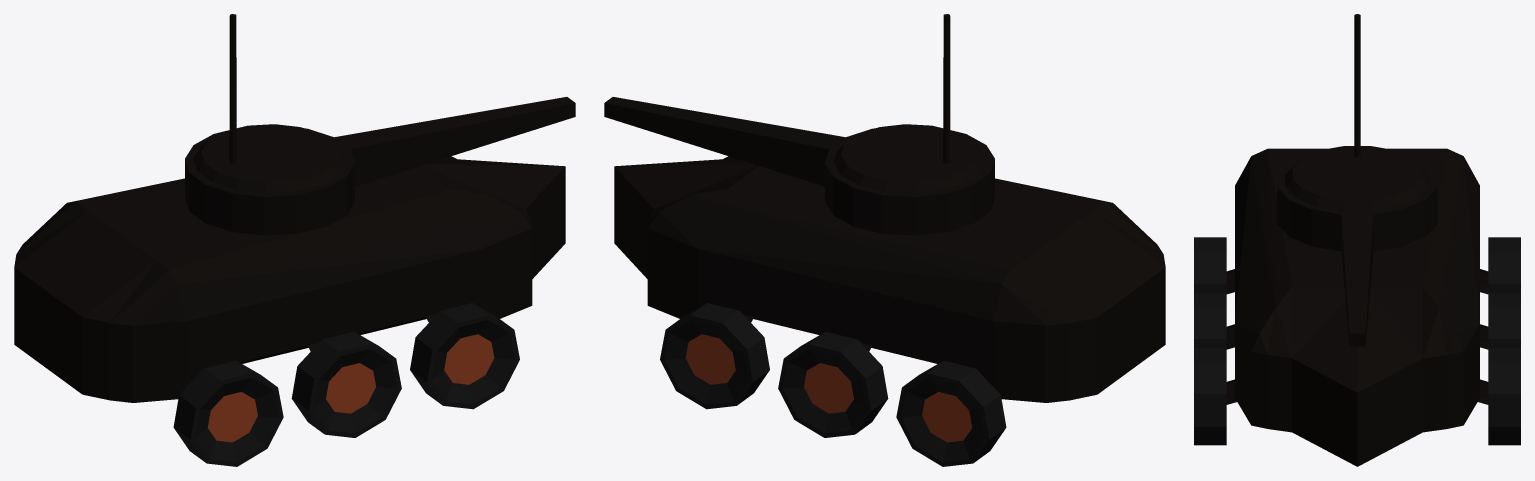
File: alternate_tank.obj
3 renders of one model, left to right at view 1: azimuth 30°, elevation 25°; view 2: azimuth 150°, elevation 25°; view 3: azimuth 270°, elevation 25°, orthographic. The views are drawn at different scales.
Parts seen in each view (by area): view 1: body_Cube, turret_Circle, wheel.003_Cylinder.001, wheel.004_Cylinder.001, wheel.005_Cylinder.001, gun_Circle.001; view 2: body_Cube, turret_Circle, wheel_Cylinder.001, wheel.002_Cylinder.001, wheel.001_Cylinder.001, gun_Circle.001; view 3: body_Cube, turret_Circle, gun_Circle.001, wheel.001_Cylinder.001, wheel.005_Cylinder.001, wheel_Cylinder.001, wheel.002_Cylinder.001, wheel.003_Cylinder.001, wheel.004_Cylinder.001.
Boxes of the visible parts, bbox=[...] form: body_Cube: bbox=[14, 156, 565, 402]; turret_Circle: bbox=[185, 14, 354, 235]; wheel.003_Cylinder.001: bbox=[291, 331, 401, 437]; wheel.004_Cylinder.001: bbox=[173, 360, 283, 466]; wheel.005_Cylinder.001: bbox=[410, 303, 519, 409]; gun_Circle.001: bbox=[334, 97, 575, 186]; body_Cube: bbox=[614, 156, 1165, 402]; turret_Circle: bbox=[825, 14, 994, 235]; wheel_Cylinder.001: bbox=[778, 331, 888, 437]; wheel.002_Cylinder.001: bbox=[896, 360, 1006, 466]; wheel.001_Cylinder.001: bbox=[660, 303, 769, 409]; gun_Circle.001: bbox=[604, 97, 845, 186]; body_Cube: bbox=[1235, 148, 1479, 466]; turret_Circle: bbox=[1277, 14, 1437, 251]; gun_Circle.001: bbox=[1341, 214, 1373, 346]; wheel.001_Cylinder.001: bbox=[1488, 348, 1520, 445]; wheel.005_Cylinder.001: bbox=[1194, 348, 1226, 445]; wheel_Cylinder.001: bbox=[1488, 292, 1520, 347]; wheel.002_Cylinder.001: bbox=[1488, 237, 1520, 292]; wheel.003_Cylinder.001: bbox=[1194, 292, 1226, 347]; wheel.004_Cylinder.001: bbox=[1194, 237, 1226, 292].
Bounding box in the file's own units: 7.08 × 4.78 × 4.
